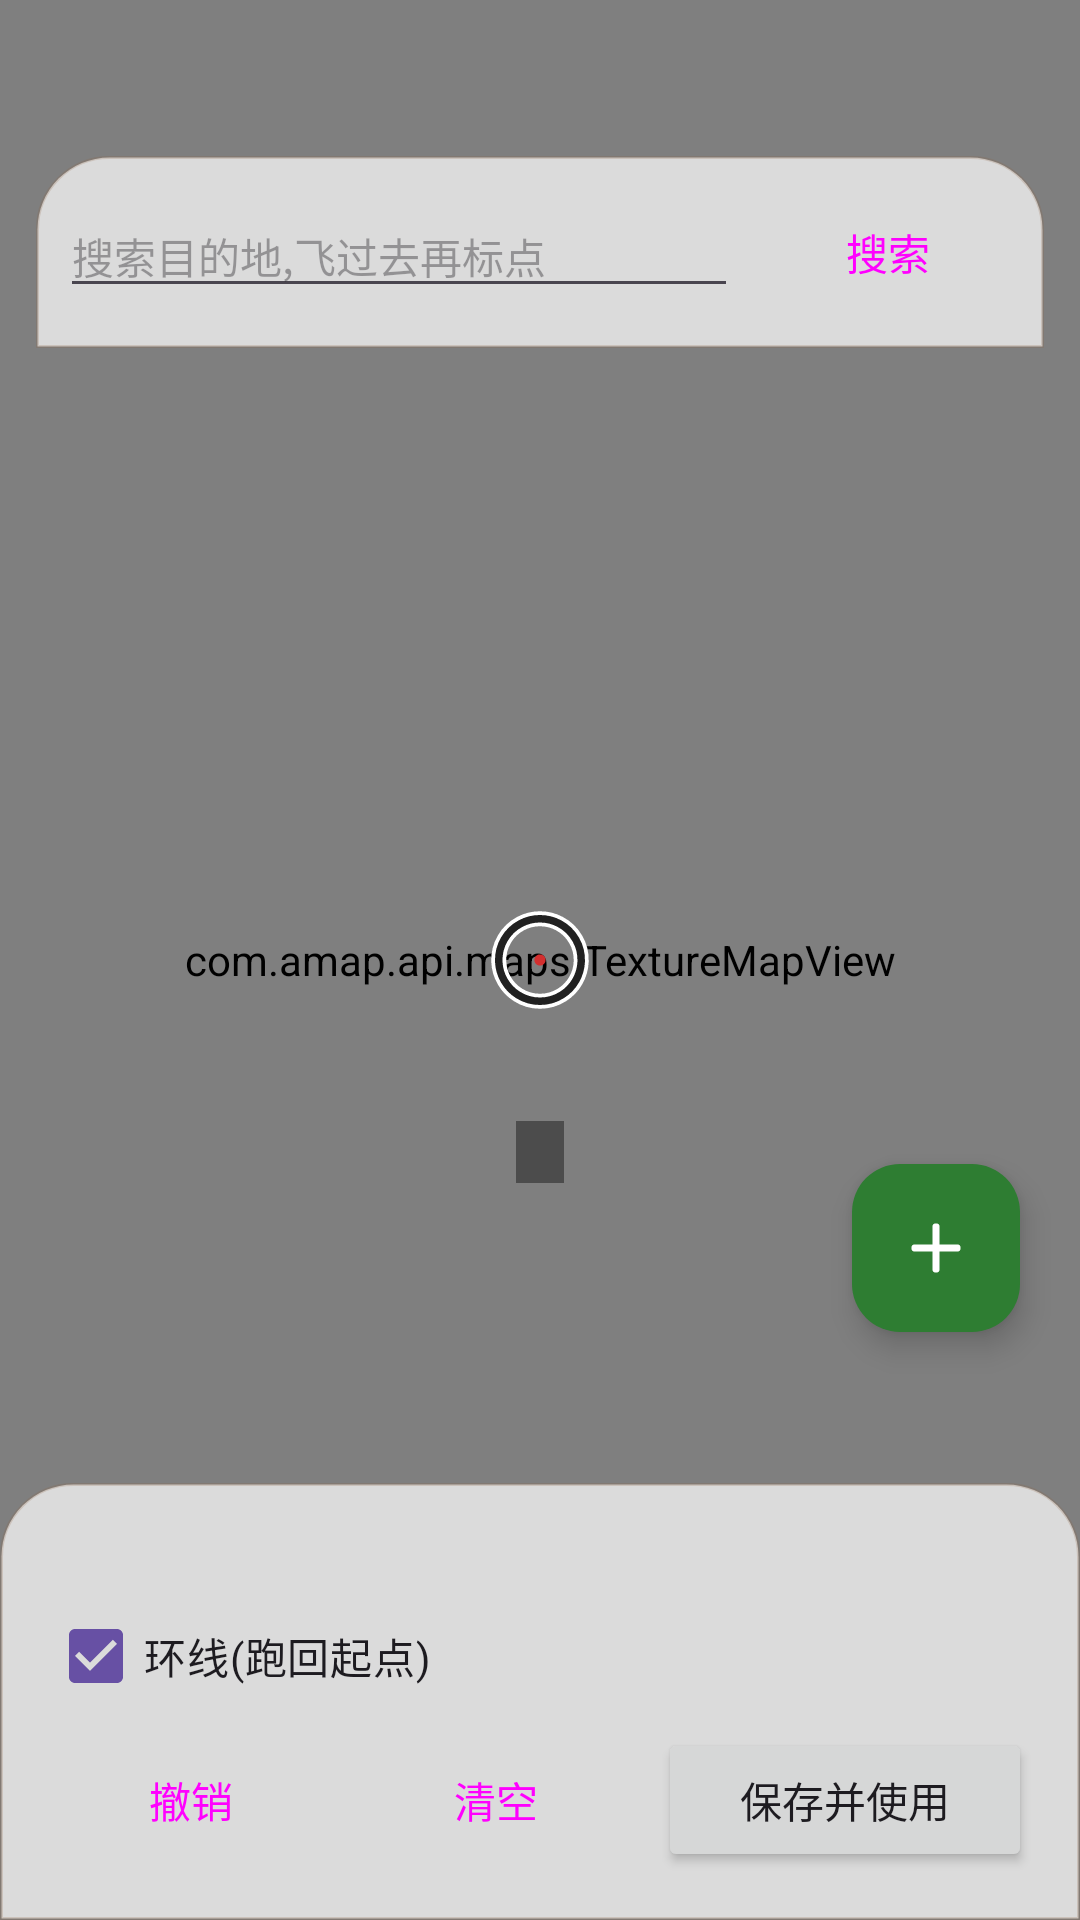

Named icons in this screenshot (1080 x 1920) and their centers, point (x, y):
在此处加点: point (936, 1248)
